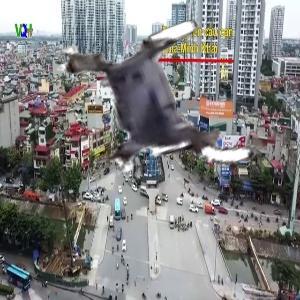drone: (60, 8, 254, 202)
